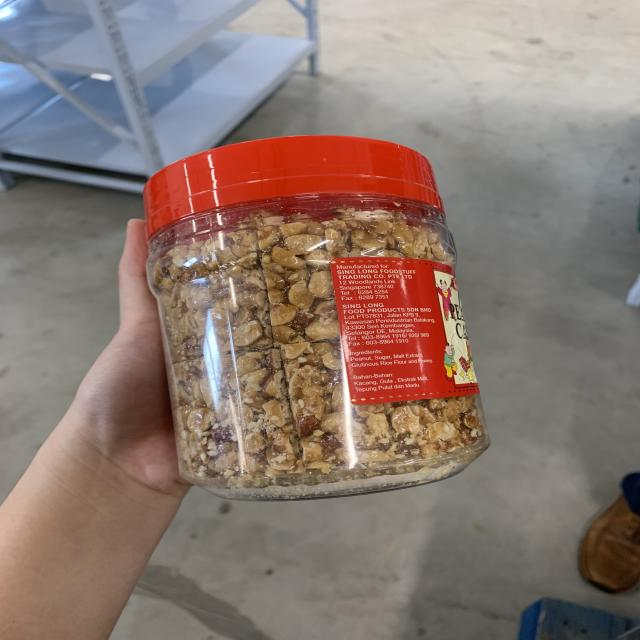object_name: (157, 170, 483, 482)
